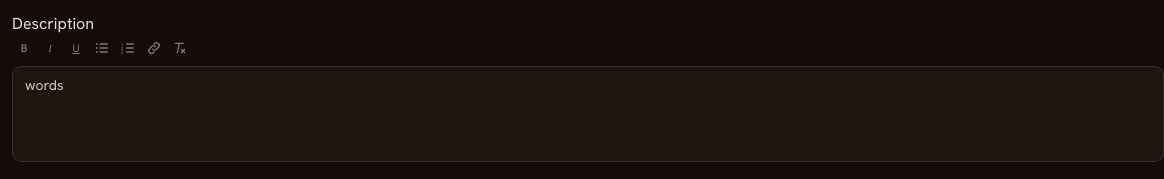
Test: DescriptionEditor › tooltips_say_the_label_and_the_shortcut
The image size is (1164, 179).
Focus the button named "Bulleted list": (102, 48) [90,36,114,60]
Wait 200 ms
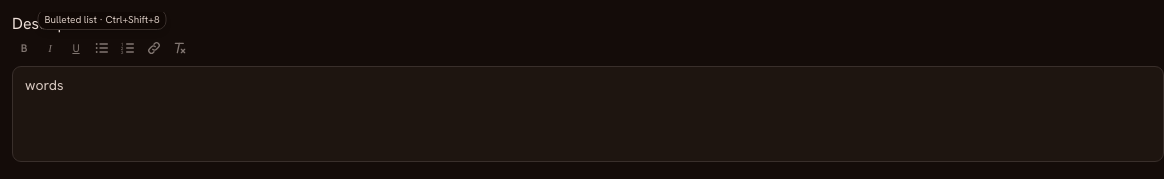
Expected: the tooltip reads "Bulleted list · Ctrl+Shift+8", [44,13,160,26]
